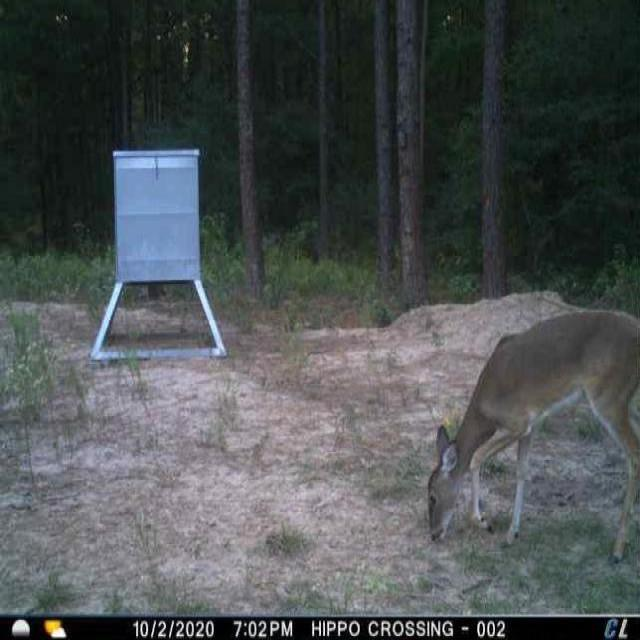deer: (402, 300, 639, 564)
